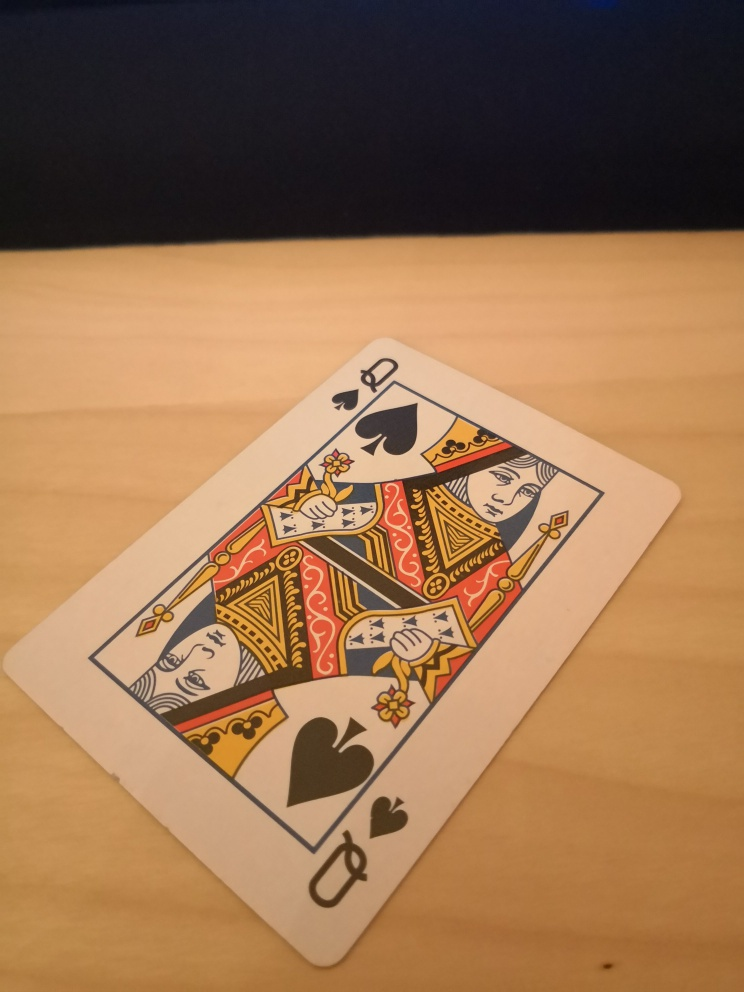queen: (2, 334, 683, 969)
